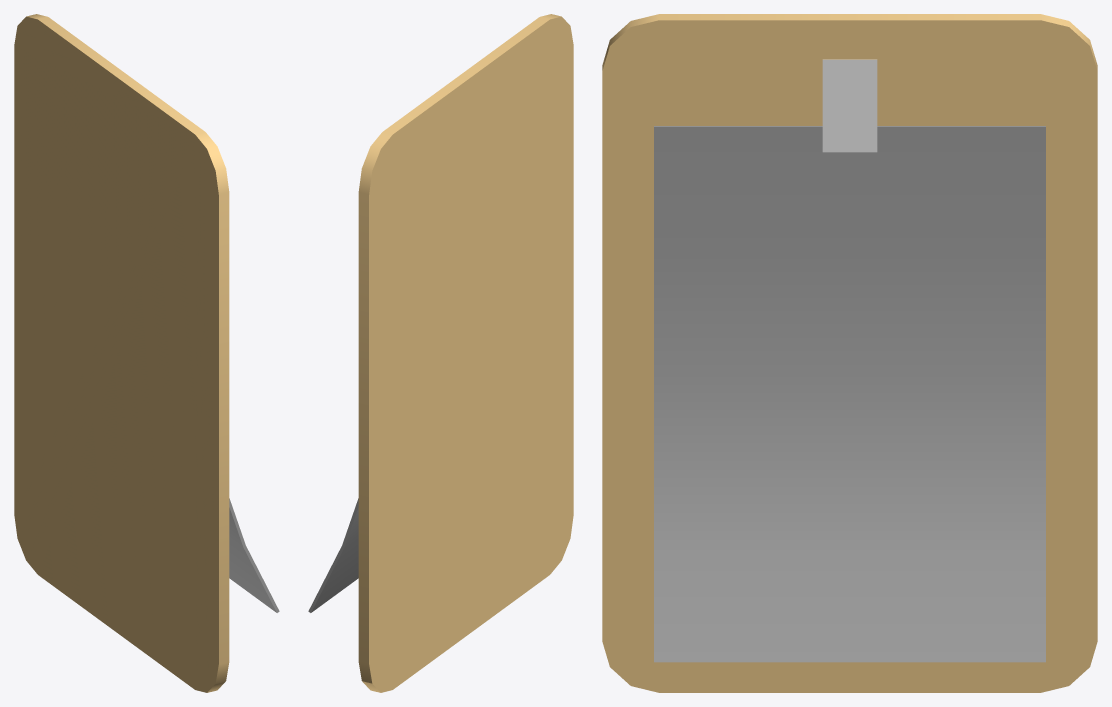
The model's file is Message.fbx.
The picture shows the model from 3 angles, left to right: view 1: azimuth 30°, elevation 25°; view 2: azimuth 150°, elevation 25°; view 3: azimuth 270°, elevation 25°; orthographic projection. The views are drawn at different scales.
Parts seen in each view (by area): view 1: Plane.001; view 2: Plane.001; view 3: Plane.001.
Boxes of the visible parts, x1=… form: Plane.001: x1=14, y1=14, x2=279, y2=692; Plane.001: x1=308, y1=14, x2=573, y2=692; Plane.001: x1=602, y1=14, x2=1097, y2=692.
Bounding box in the file's own units: 46.39 × 300 × 200.
